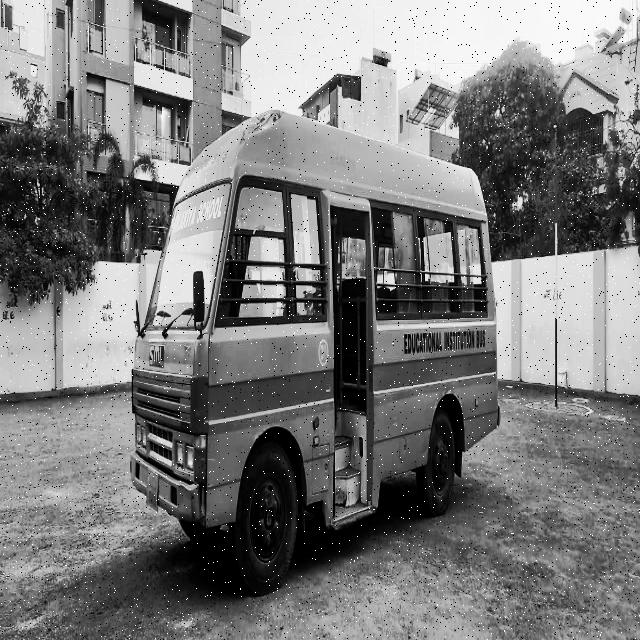Bus: (126, 85, 509, 596)
